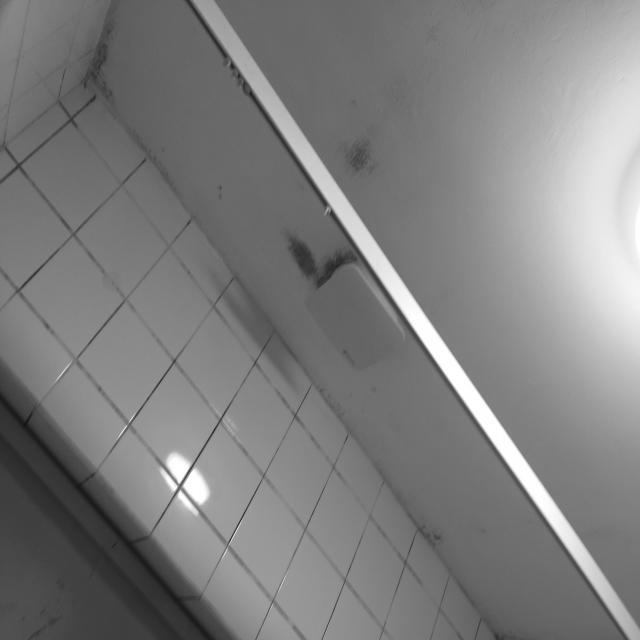stain marks: (254, 212, 373, 294), (382, 446, 445, 563), (79, 0, 140, 116), (132, 132, 188, 205), (334, 113, 378, 185), (210, 170, 234, 211)
